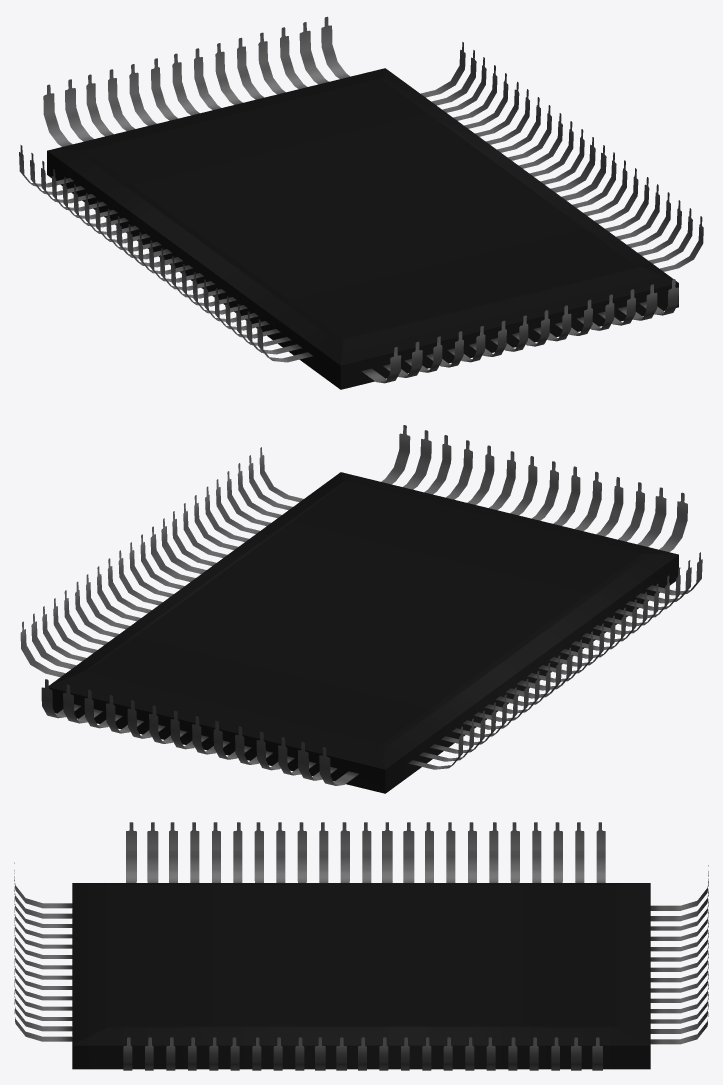
Rendered from Pop'sChip.FBX.
The picture shows the model from 3 angles, top to bottom: view 1: azimuth 30°, elevation 25°; view 2: azimuth 150°, elevation 25°; view 3: azimuth 270°, elevation 25°; orthographic projection.
Parts seen in each view (by area): view 1: PopsChip; view 2: PopsChip; view 3: PopsChip.
Part boxes in pixels (x1,y1,x2,y2): PopsChip: (19,16,703,389); PopsChip: (20,425,702,793); PopsChip: (14,822,708,1070).
Bounding box in the file's own units: 23.4 × 3.5 × 32.46.
1 material, 1 textured.
